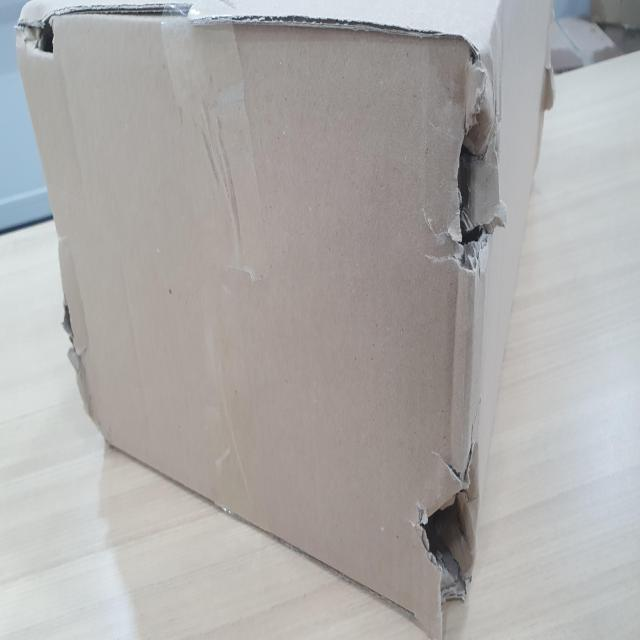damaged: (410, 443, 484, 605), (445, 93, 510, 265), (13, 0, 72, 67)
